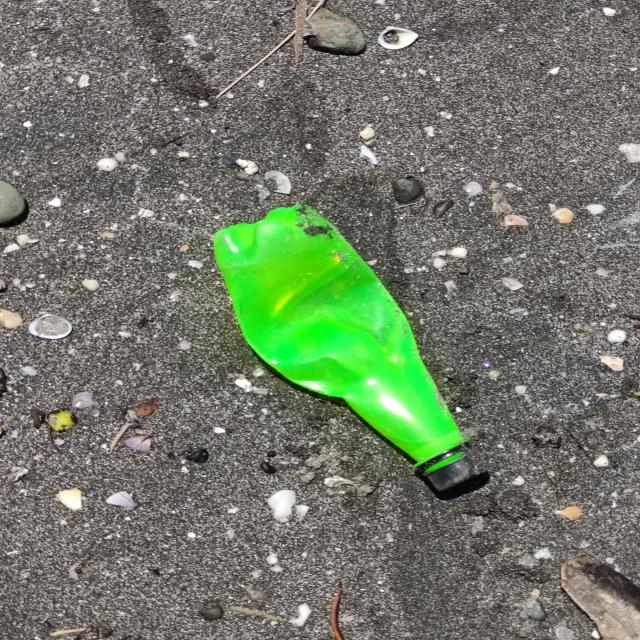plastic_waste: (217, 204, 489, 501)
